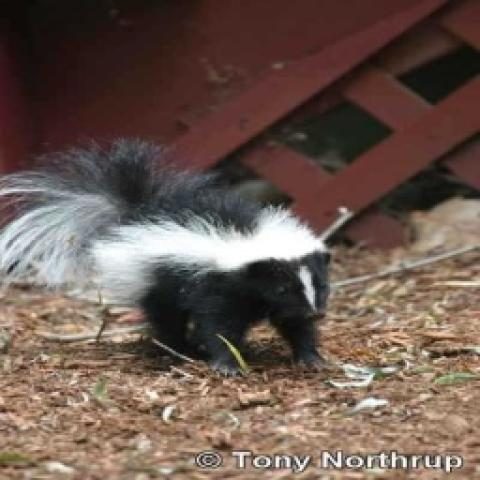small_animal: (0, 135, 341, 379)
